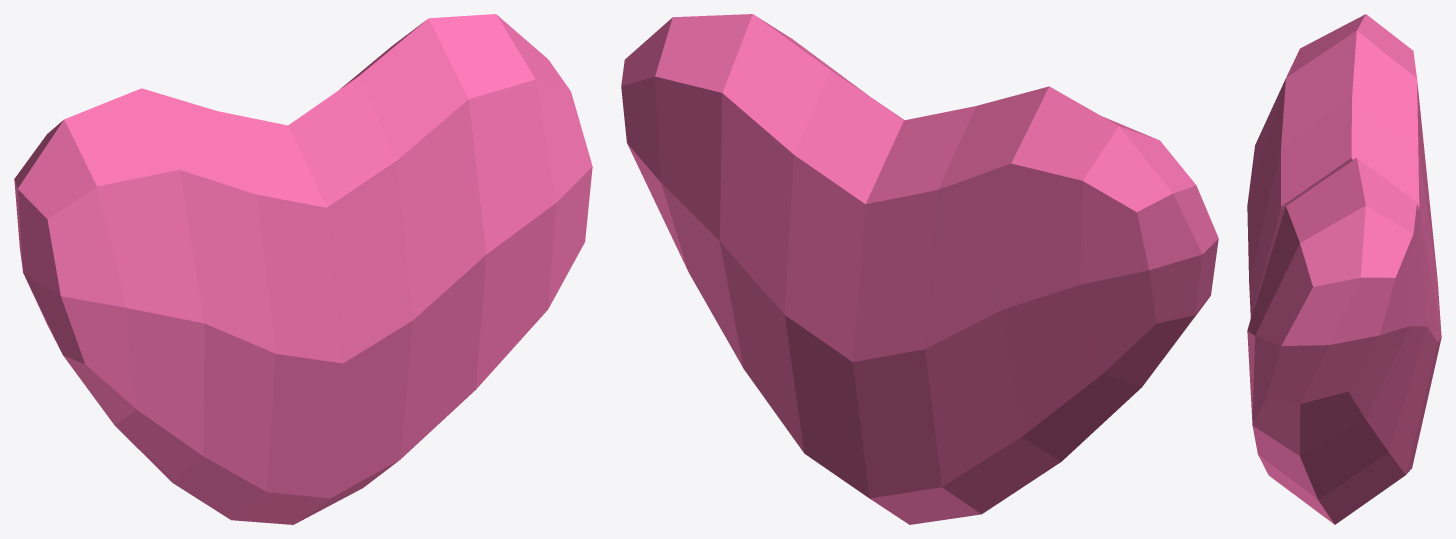
Rendered from corazon.glb.
3 views of the same model, side by side, from view 1: azimuth 30°, elevation 25°; view 2: azimuth 150°, elevation 25°; view 3: azimuth 270°, elevation 25° (orthographic). The views are drawn at different scales.
Visible parts, largest first — view 1: Model; view 2: Model; view 3: Model.
Boxes of the visible parts, x1=… form: Model: x1=14, y1=14, x2=592, y2=524; Model: x1=621, y1=14, x2=1218, y2=524; Model: x1=1247, y1=14, x2=1441, y2=524.
Bounding box in the file's own units: 0.5133 × 0.4123 × 0.1717.
Materials: 1 (1 with a texture image).
